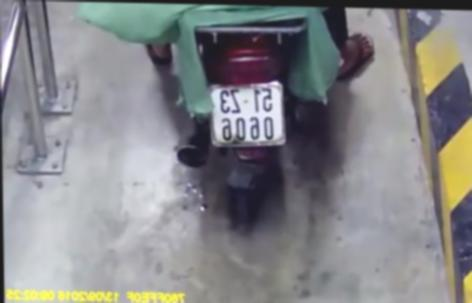License_Plate: (201, 76, 292, 148)
